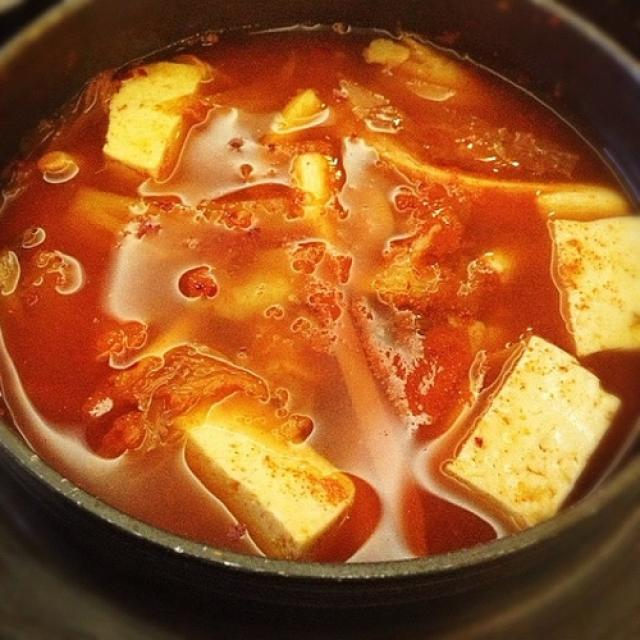汤锅炖物: (19, 21, 634, 572)
